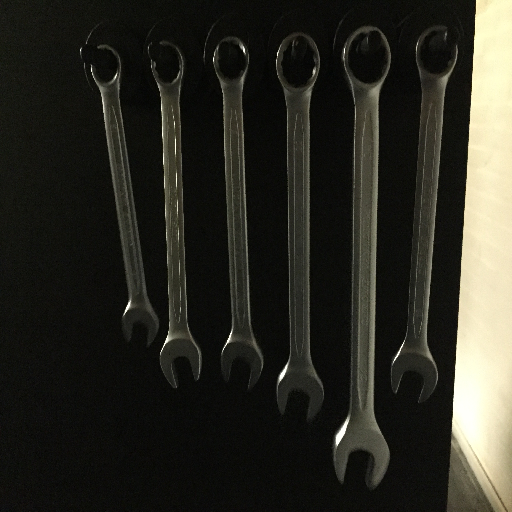bottom: (330, 421, 393, 492), (386, 345, 441, 406), (273, 363, 327, 425), (217, 337, 265, 394), (157, 335, 205, 389), (118, 302, 162, 348)
top: (340, 21, 393, 94), (272, 30, 322, 97), (143, 36, 191, 95), (82, 40, 132, 94), (414, 23, 459, 80), (208, 34, 254, 85)
